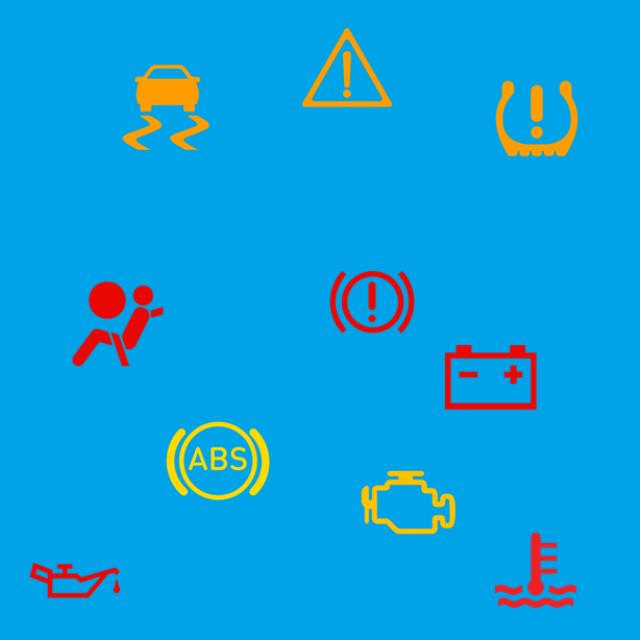Anti Lock Braking System: (162, 404, 274, 517)
Braking System Issue: (316, 246, 428, 359)
Charging System Issue: (435, 321, 547, 434)
Check Engine: (352, 446, 465, 559)
Electronic Stability Problem -ESP-: (109, 51, 222, 164)
Engine Overheating Warning Light: (480, 514, 592, 626)
Low Engine Oil Warning Light: (19, 524, 131, 637)
Low Tire Pressure Warning Light: (481, 63, 593, 175)
Master warning light: (291, 12, 403, 124)
SRS-Airbag: (62, 268, 174, 380)
